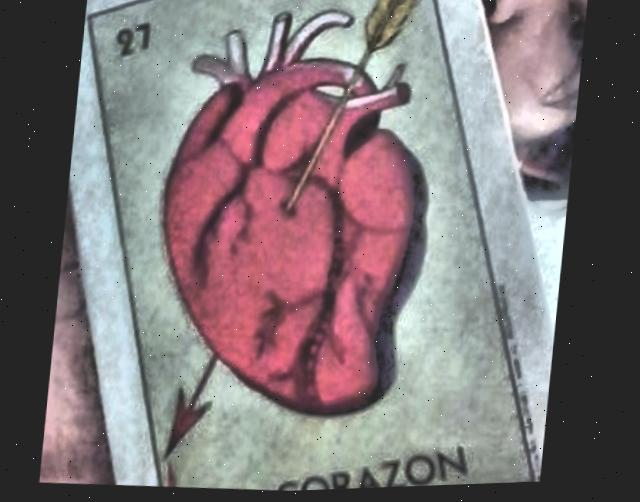El Corazon: (88, 0, 529, 493)
